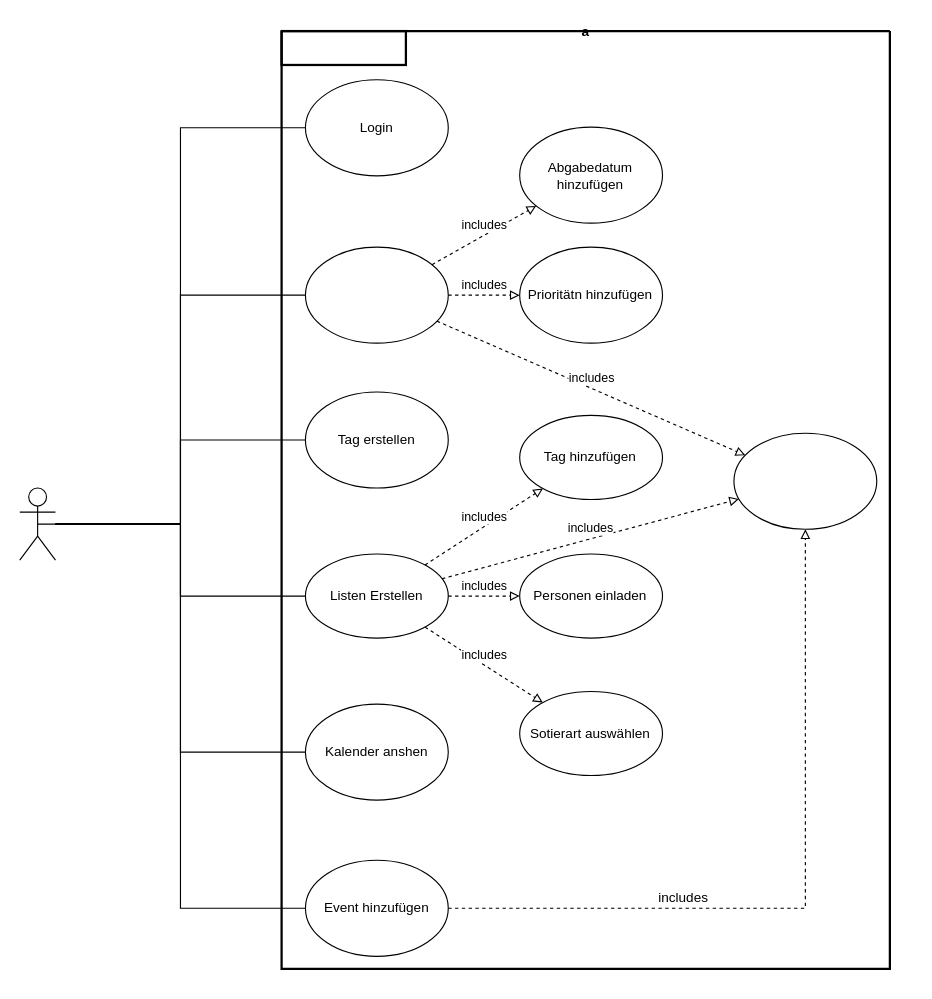
The diagram is 932 pixels wide and 999 high, and some of its shapes have lost their labels. The shapes that lost their labels are listed below. From the top down, each one's box as (x1, y1, x2, y2) in pixels, then its label:
(280, 29, 406, 66): Projekt-Lamp
(304, 246, 448, 343): Task Erstellen/ändern
(733, 432, 877, 529): Beischreibung hinzufügen
(19, 487, 55, 560): user
